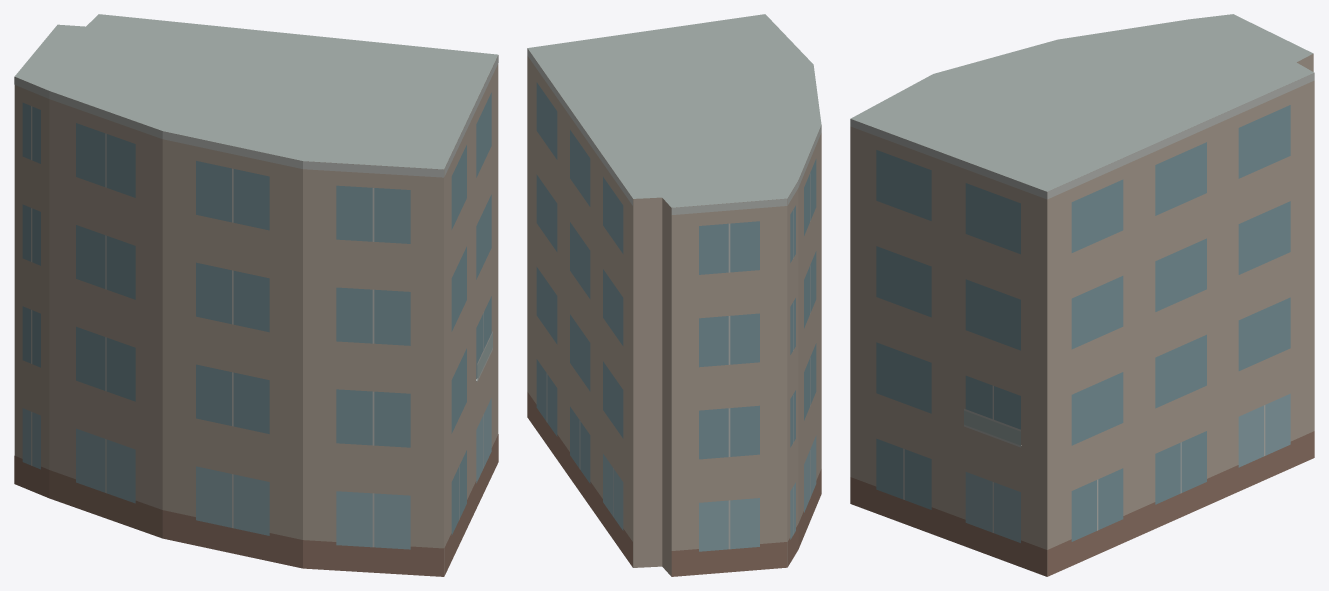
Rendered from survey-upis-32649054.glb.
The picture shows the model from 3 angles, left to right: view 1: azimuth 30°, elevation 25°; view 2: azimuth 150°, elevation 25°; view 3: azimuth 270°, elevation 25°; orthographic projection. The views are drawn at different scales.
Parts seen in each view (by area): view 1: survey-upis-32649054.tmp; view 2: survey-upis-32649054.tmp; view 3: survey-upis-32649054.tmp.
Boxes of the visible parts, <box> form: survey-upis-32649054.tmp: <box>14,14,498,576</box>; survey-upis-32649054.tmp: <box>527,14,821,576</box>; survey-upis-32649054.tmp: <box>850,14,1314,576</box>.
Bounding box in the file's own units: 12.09 × 12.2 × 13.34.
